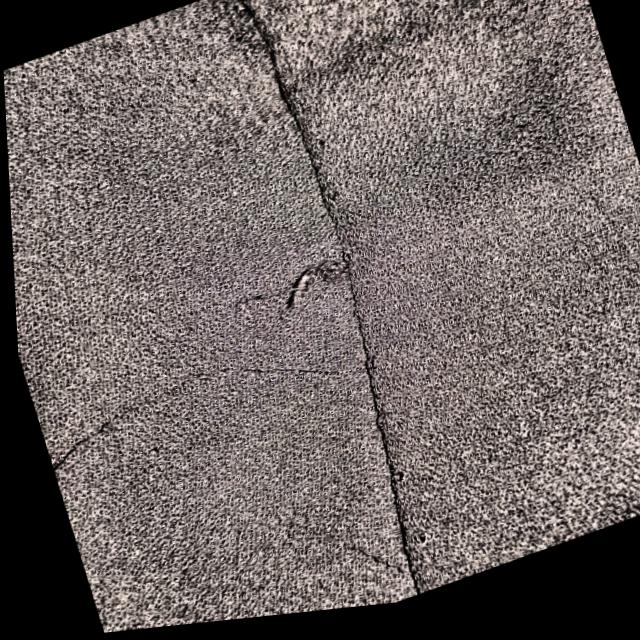Stitch: (10, 216, 452, 541)
